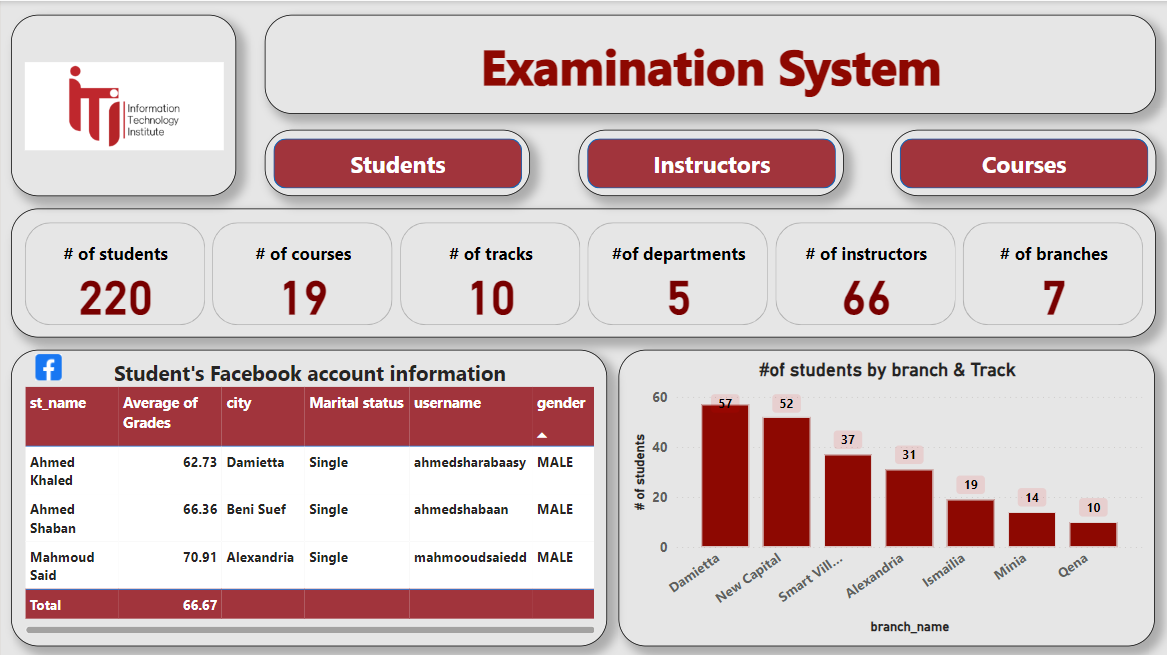

The dashboard page shown, as its layout file describes it:
{"tool":"powerbi","page":{"name":"Main","canvas":[1280,720],"ordinal":0},"visuals":[{"type":"shape","box":[289.5,15.1,978.4,108.4],"z":0},{"type":"cardVisual","fields":{"Data":["Dim_Students.Total students","dim_courses.# of courses","dim_courses.# of tracks","dim_courses.#of departments","dim_instructor.# of instructors","Dim_Students.# of branches"]},"box":[11,227.8,1257,141.3],"z":1000},{"type":"image","box":[11,15.1,247,199],"z":2000},{"type":"columnChart","title":"#of  students by branch & Track","fields":{"Category":["Dim_Students.branch_name"],"Y":["Dim_Students.# of  students"]},"box":[677.9,382.8,588.7,325.2],"z":3000},{"type":"tableEx","title":"Student''s Facebook account information","fields":{"Values":["Dim_Students.st_name","Avg(Fact_Grades.Grades)","profile_info.city","profile_info.Marital status","profile_info.username","profile_info.gender"]},"box":[11,382.8,654.5,325.2],"z":4000},{"type":"shape","box":[289.5,141.3,290.9,72.7],"z":5000},{"type":"shape","box":[977,141.3,290.9,72.7],"z":6000},{"type":"shape","box":[634,141.3,290.9,72.7],"z":7000},{"type":"image","box":[27.4,382.8,49.4,38.4],"z":8000}]}

Visuals, with their boxes in screenshot pixels (x1, y1, x2, y2), scaled from the page's 1280x720 canvas onto the 1167x655 screenshot:
shape: bbox=(264, 14, 1156, 112)
cardVisual - Dim_Students.Total students x dim_courses.# of courses: bbox=(10, 207, 1156, 336)
image: bbox=(10, 14, 235, 195)
"#of  students by branch & Track" columnChart: bbox=(618, 348, 1155, 644)
"Student''s Facebook account information" tableEx: bbox=(10, 348, 607, 644)
shape: bbox=(264, 129, 529, 195)
shape: bbox=(891, 129, 1156, 195)
shape: bbox=(578, 129, 843, 195)
image: bbox=(25, 348, 70, 383)
